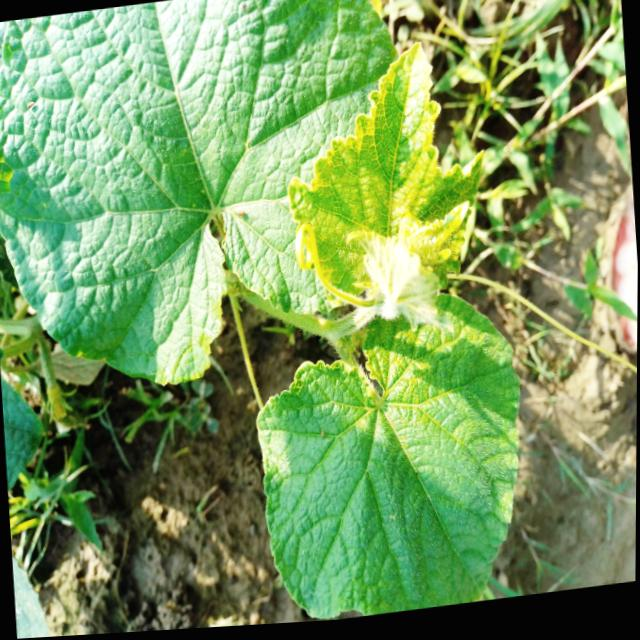Fresh-Leaf: (0, 0, 402, 388), (258, 293, 524, 617), (283, 34, 487, 288)
